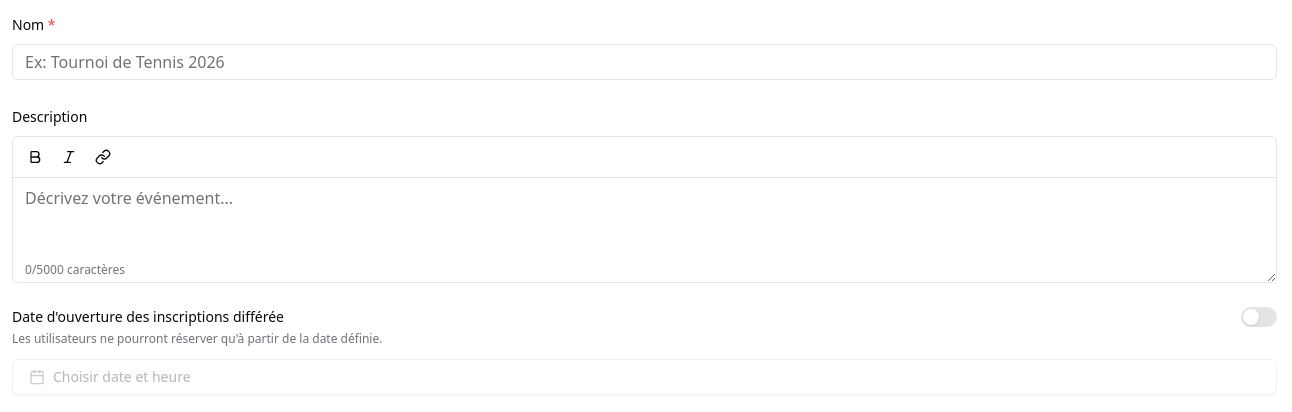
Test: EventForm › should enable datetime input when Date ouverture toggle is ON
Expected: the button with test id "opensAt-input" is disabled, [12,359,1277,395]
// Activer le toggle
What coordinates should you click on to do the following:
click the switch named "Date d'ouverture"
I would click on:
 (1259, 317)
Its box is [1241,307,1277,327].
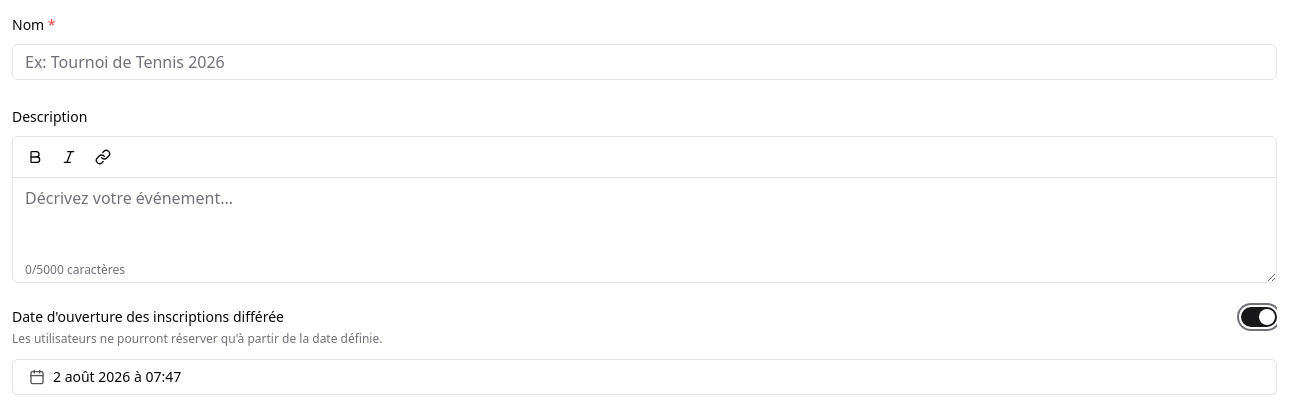
Expected: the button with test id "opensAt-input" is enabled, [12,359,1277,395]
